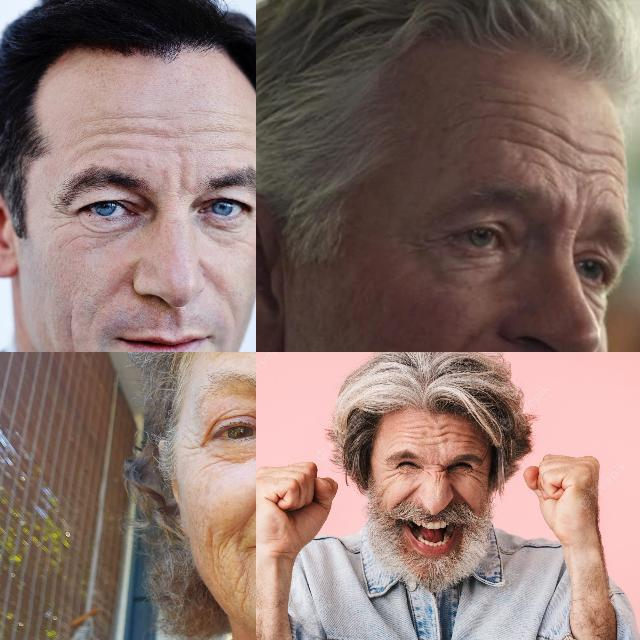crows_feet: (401, 222, 445, 255), (51, 204, 79, 236), (186, 430, 210, 462), (469, 465, 488, 483), (382, 462, 398, 482)
forehead: (499, 109, 583, 170), (88, 115, 172, 154), (195, 110, 253, 158), (588, 129, 622, 187), (432, 420, 458, 450), (402, 424, 426, 446), (462, 430, 478, 452)
frown_line: (562, 180, 588, 214), (432, 460, 446, 482)
gummy_smile: (112, 258, 134, 300), (200, 260, 226, 292), (240, 484, 256, 532), (449, 485, 473, 509), (398, 482, 418, 508)
masseter: (198, 524, 232, 580), (55, 309, 89, 352)
sad_smile: (232, 560, 254, 608)
